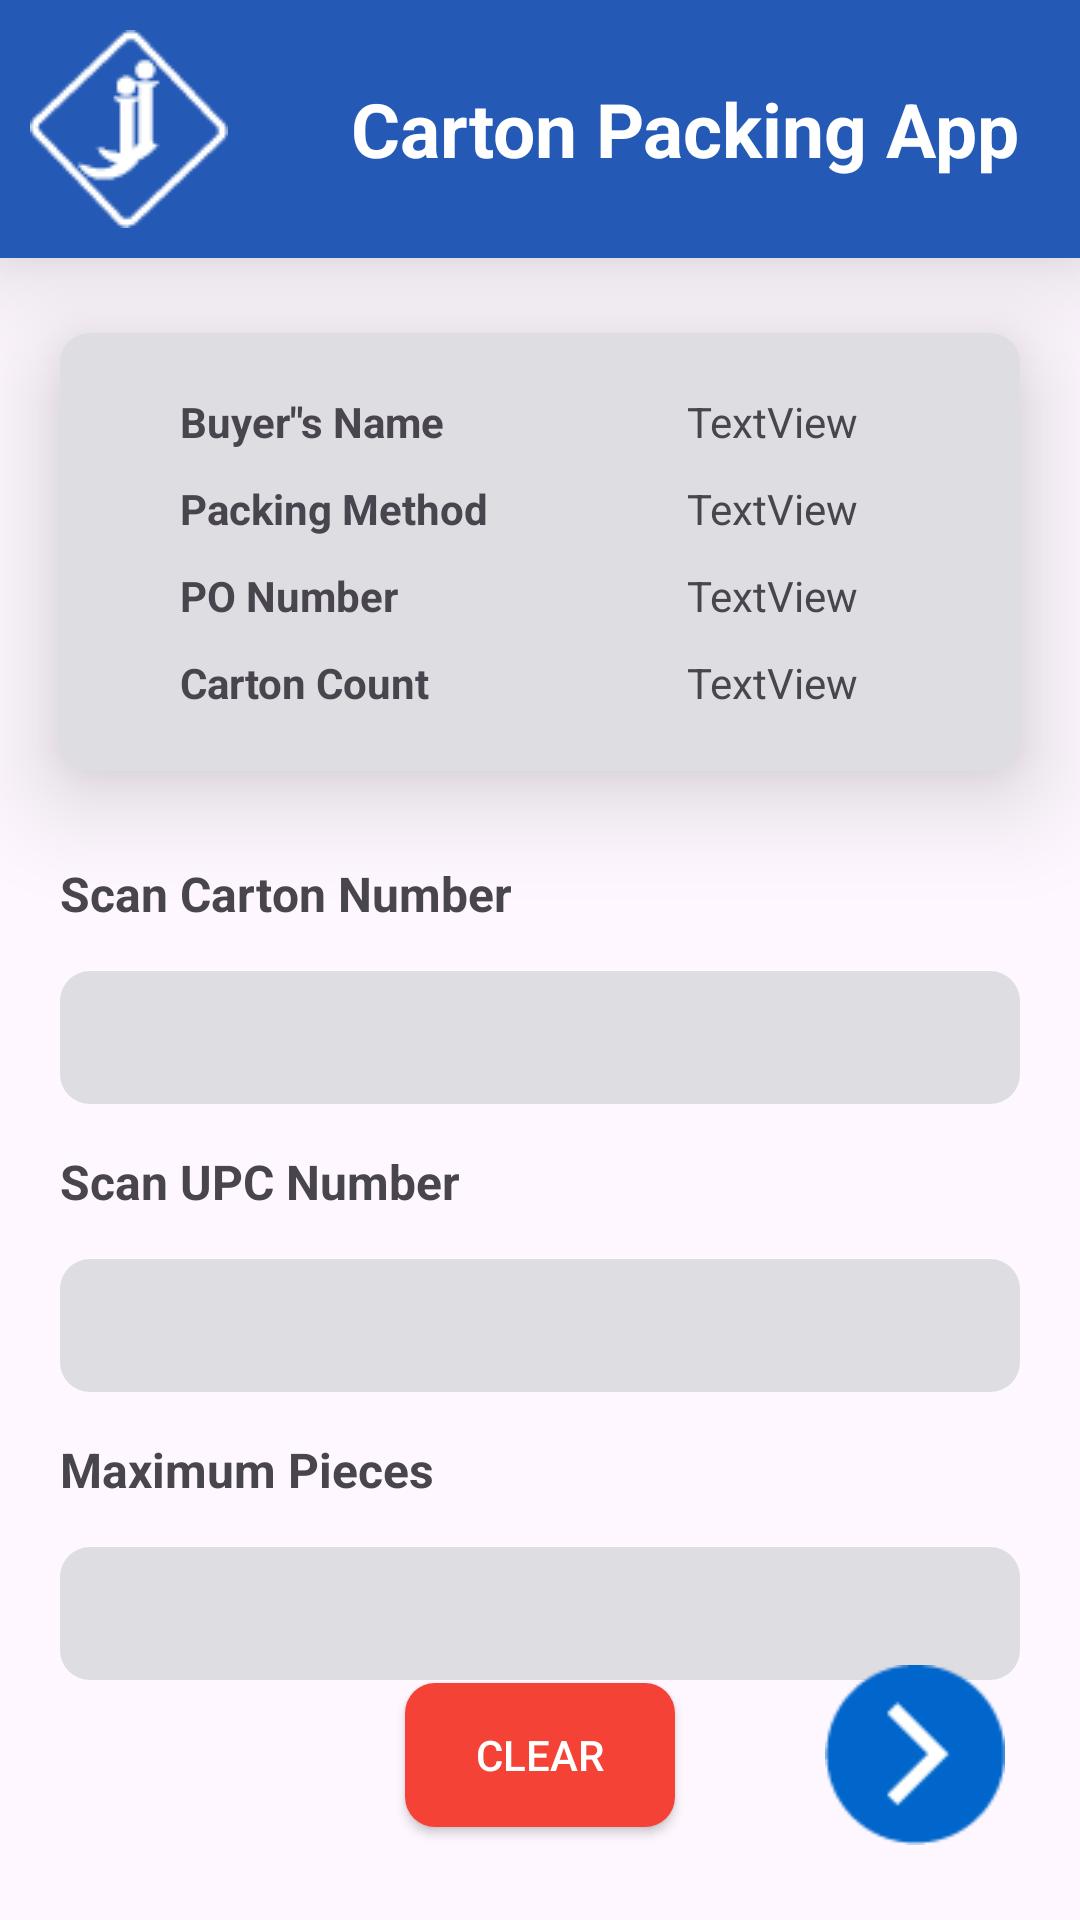

Screen size 1080×1920. Icon name, then its center in pixels as (x,y):
forward: (915,1755)
